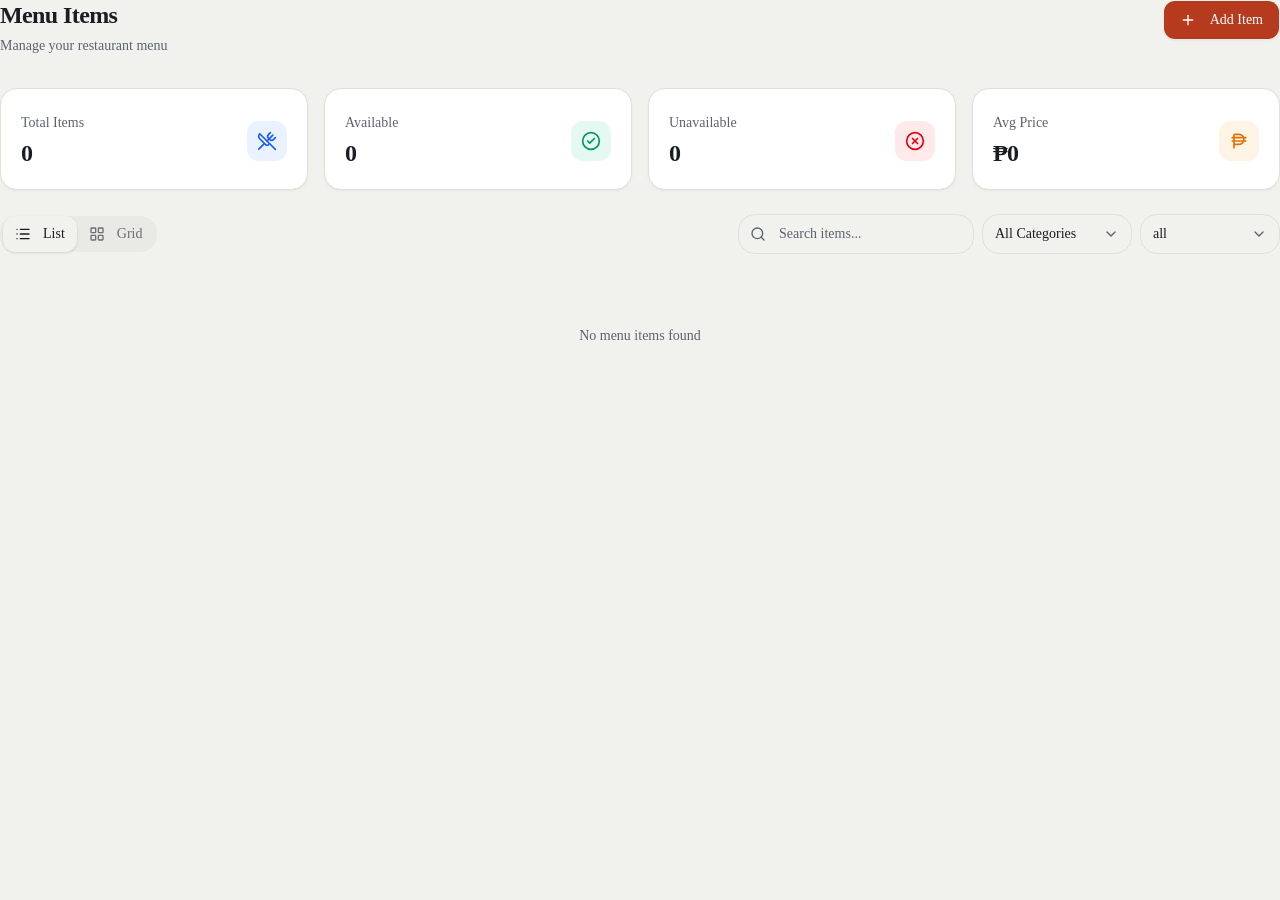
Edit Item modal layout › keeps the primary action in a non-shrinking footer, never clipped
Click the button "Add Item". click: click(1221, 20)
box: [1163,0,1279,40]
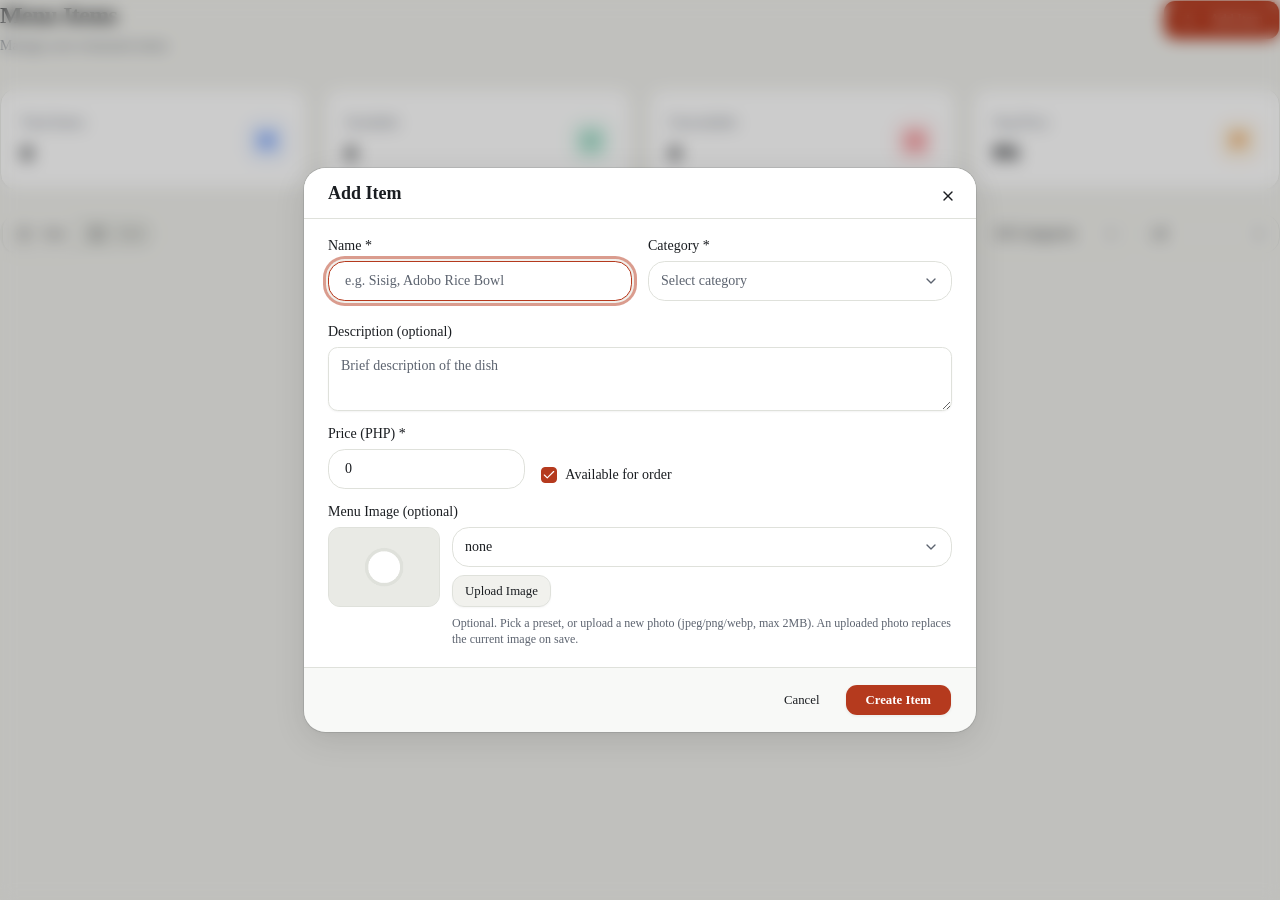
Expected: the element "Cancel Create Item" is shown, [304,667,976,732]
Expected: the element with class "overflow-y-auto" is shown, [304,219,976,667]
